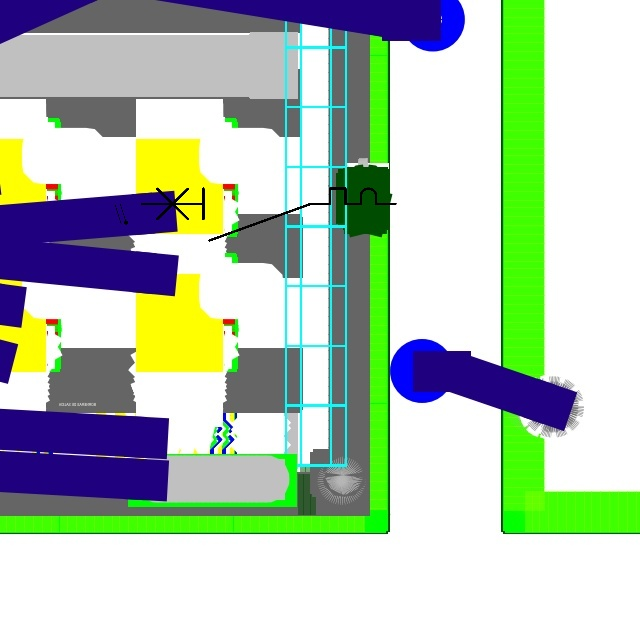interruptor_termomagnetico: (135, 182, 402, 247)
